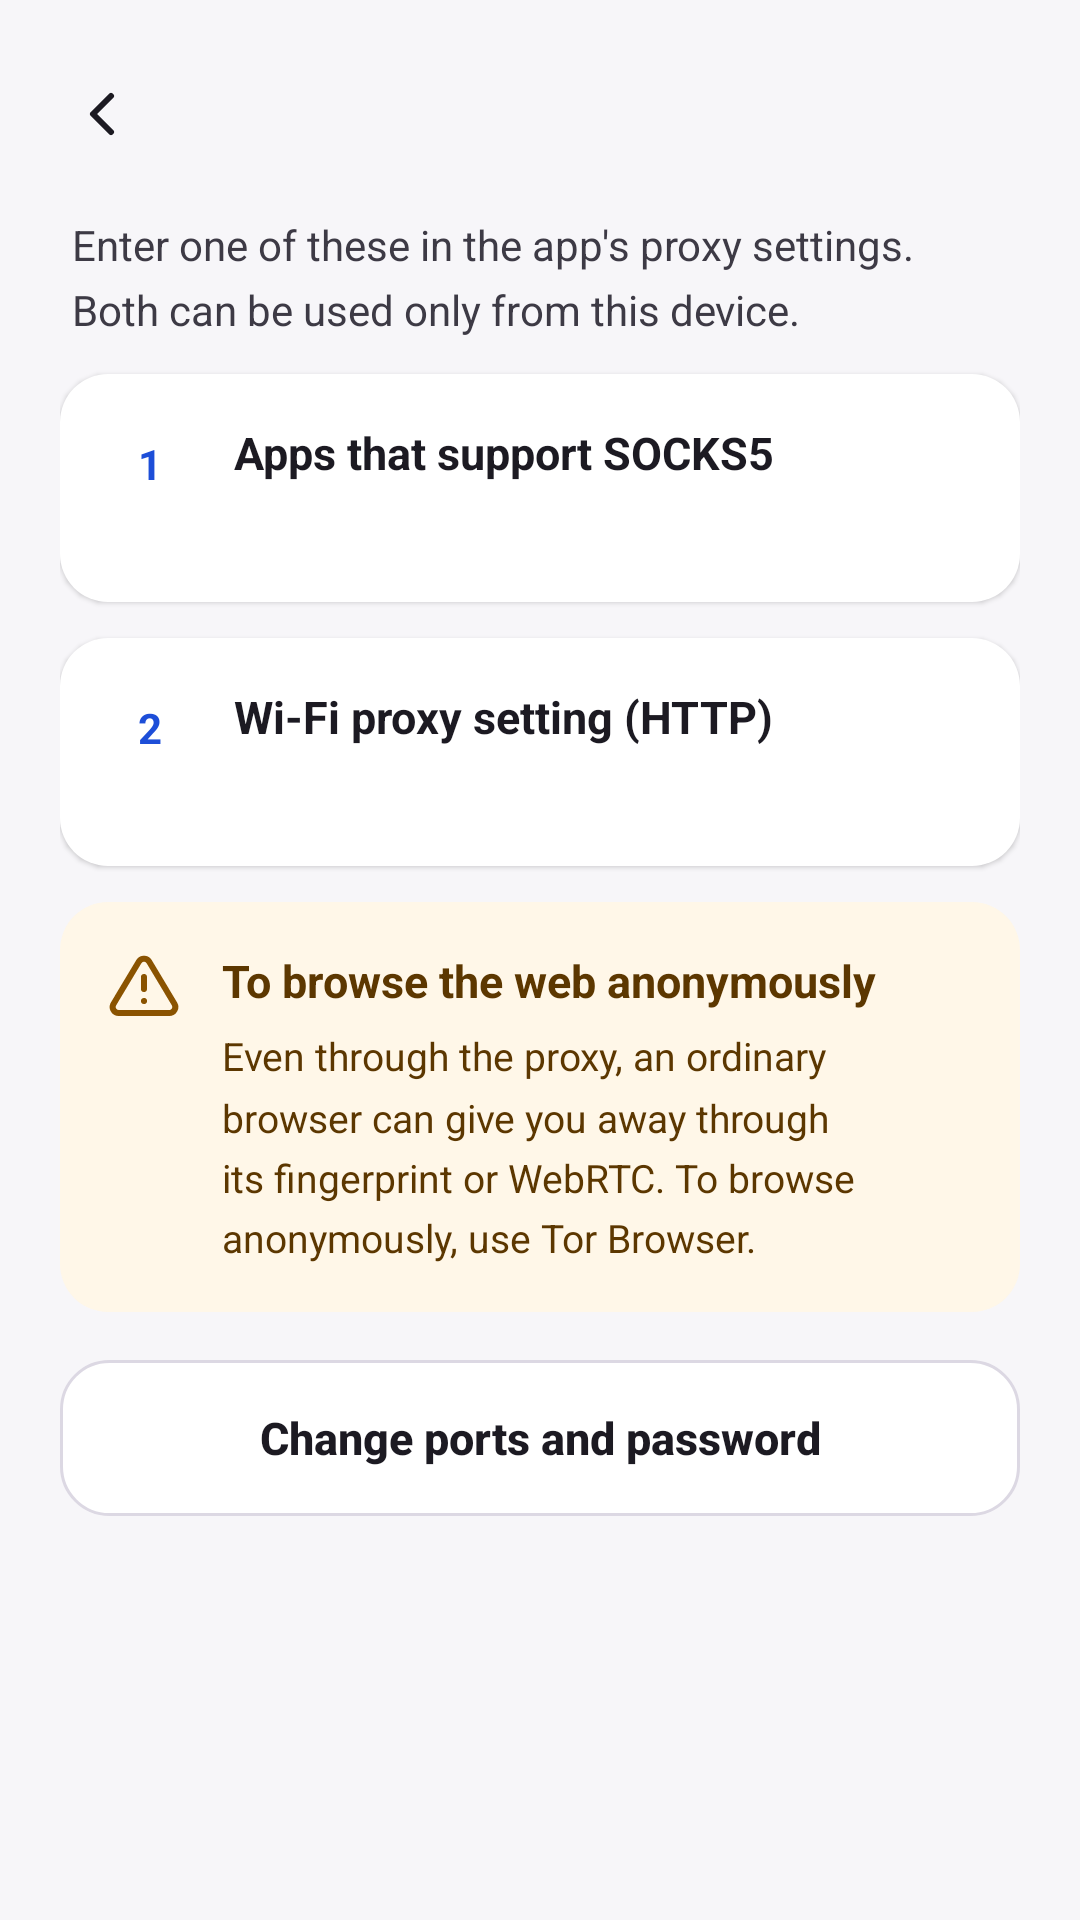

Named icons in this screenshot (1080*1920) and their centers, point (x, y):
Back: point (102, 114)
warning: point (144, 985)
